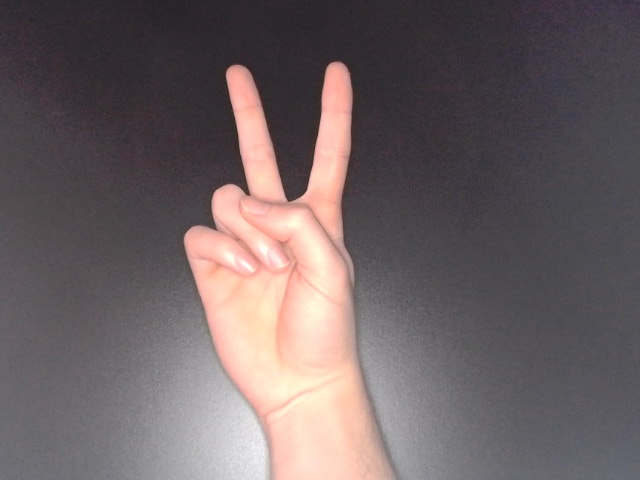v: (177, 59, 376, 436)
